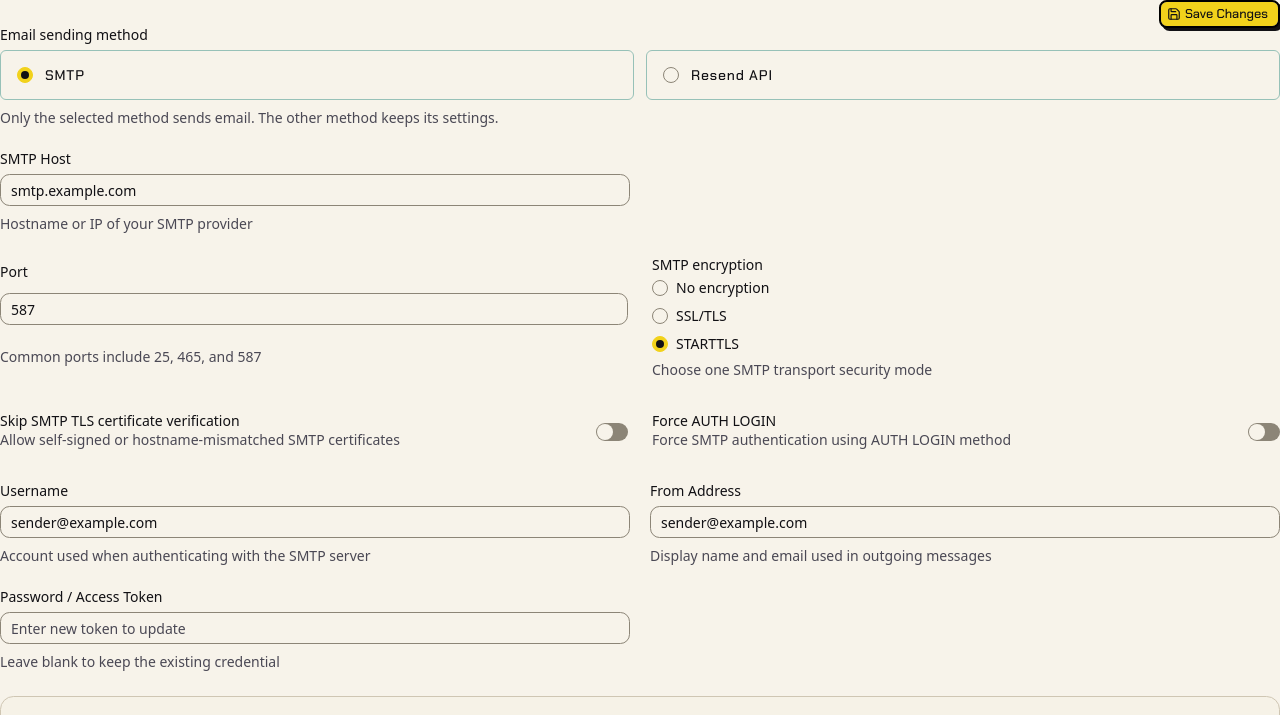
Test: email delivery settings › supports changing the provider with the keyboard
The image size is (1280, 715).
Click the 1st radio button named "SMTP". click: (25, 75)
box: [17,67,33,83]
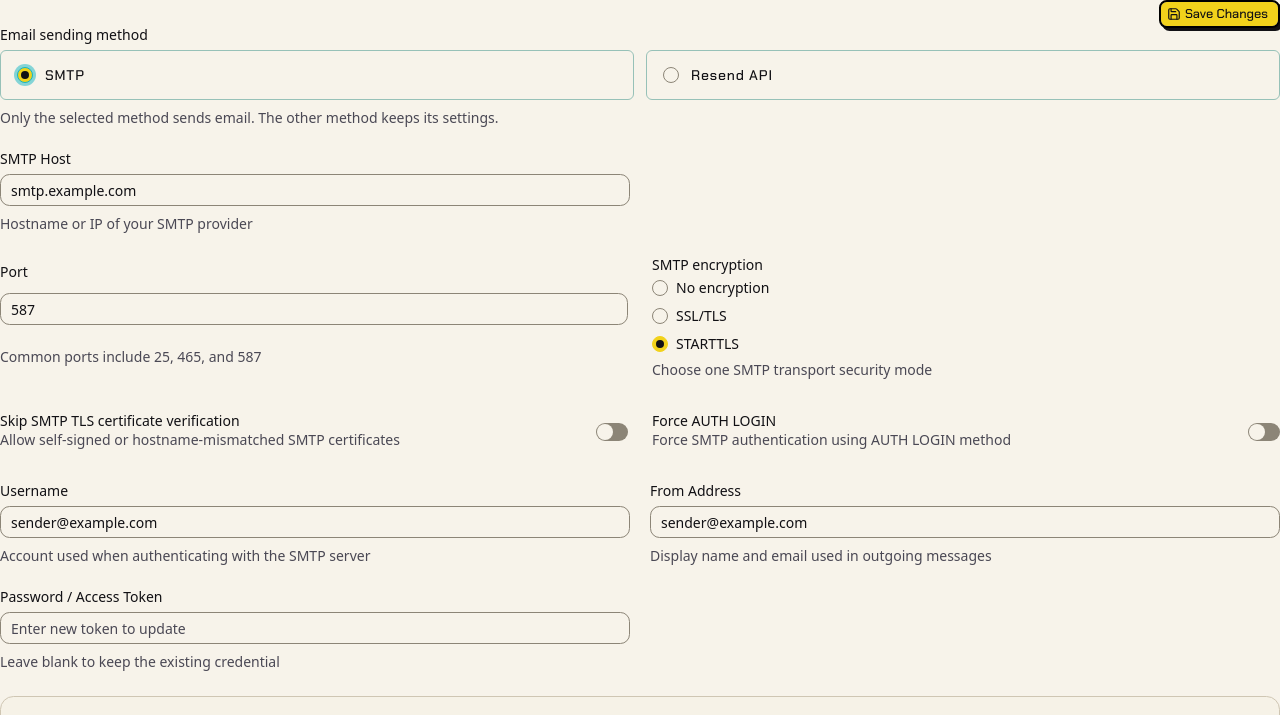
Press Arrowright
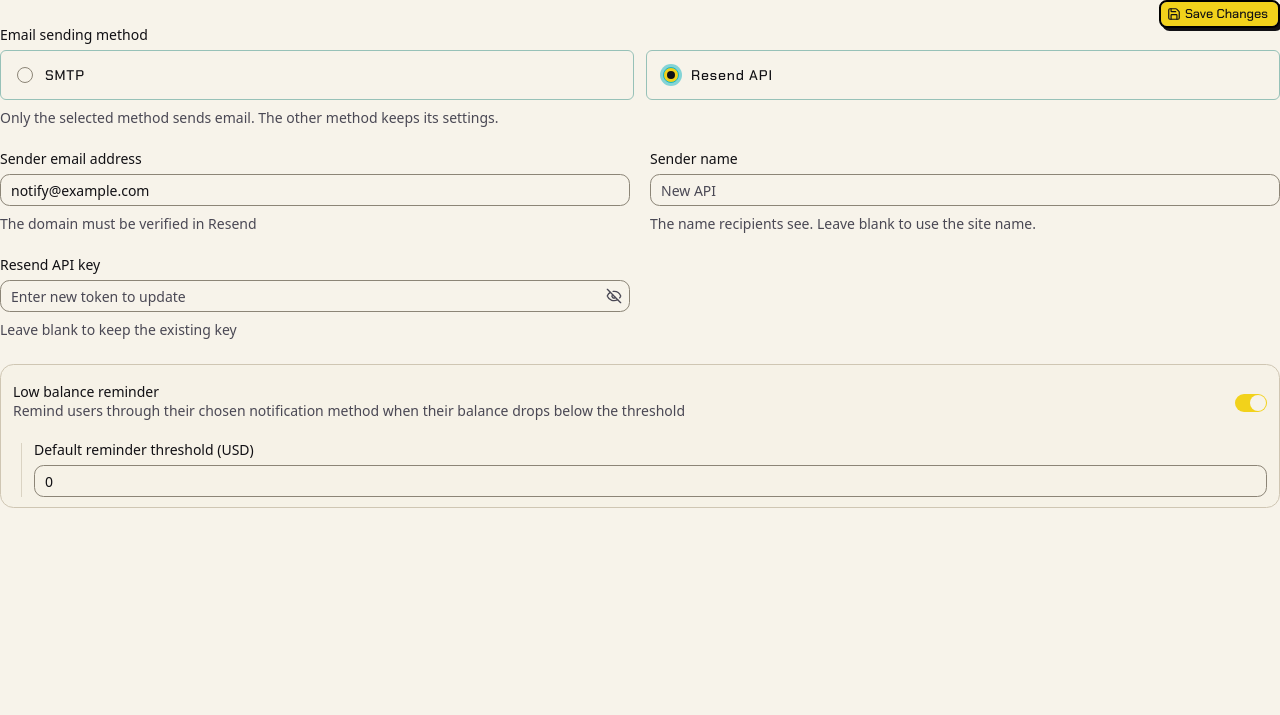
Expected: the field labelled "Sender email address" is shown, [0,174,630,206]
Now the 2nd radio button named "Resend API" is checked, box [663,67,679,83]
